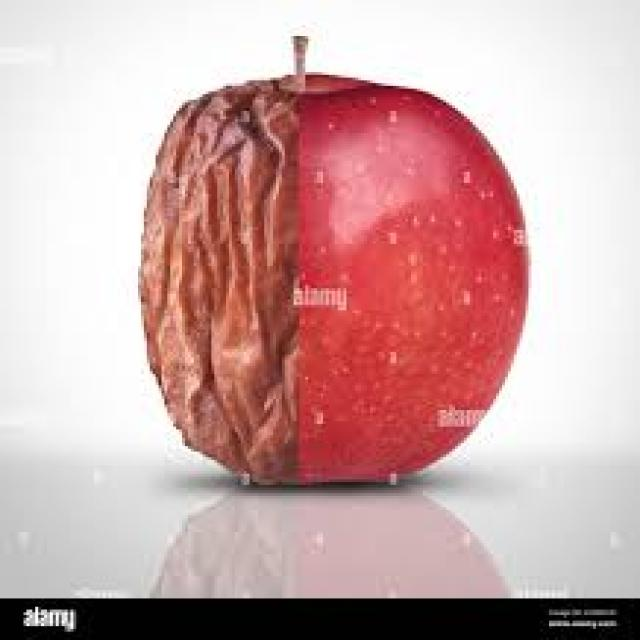Rotten Apple: (144, 74, 528, 491)
